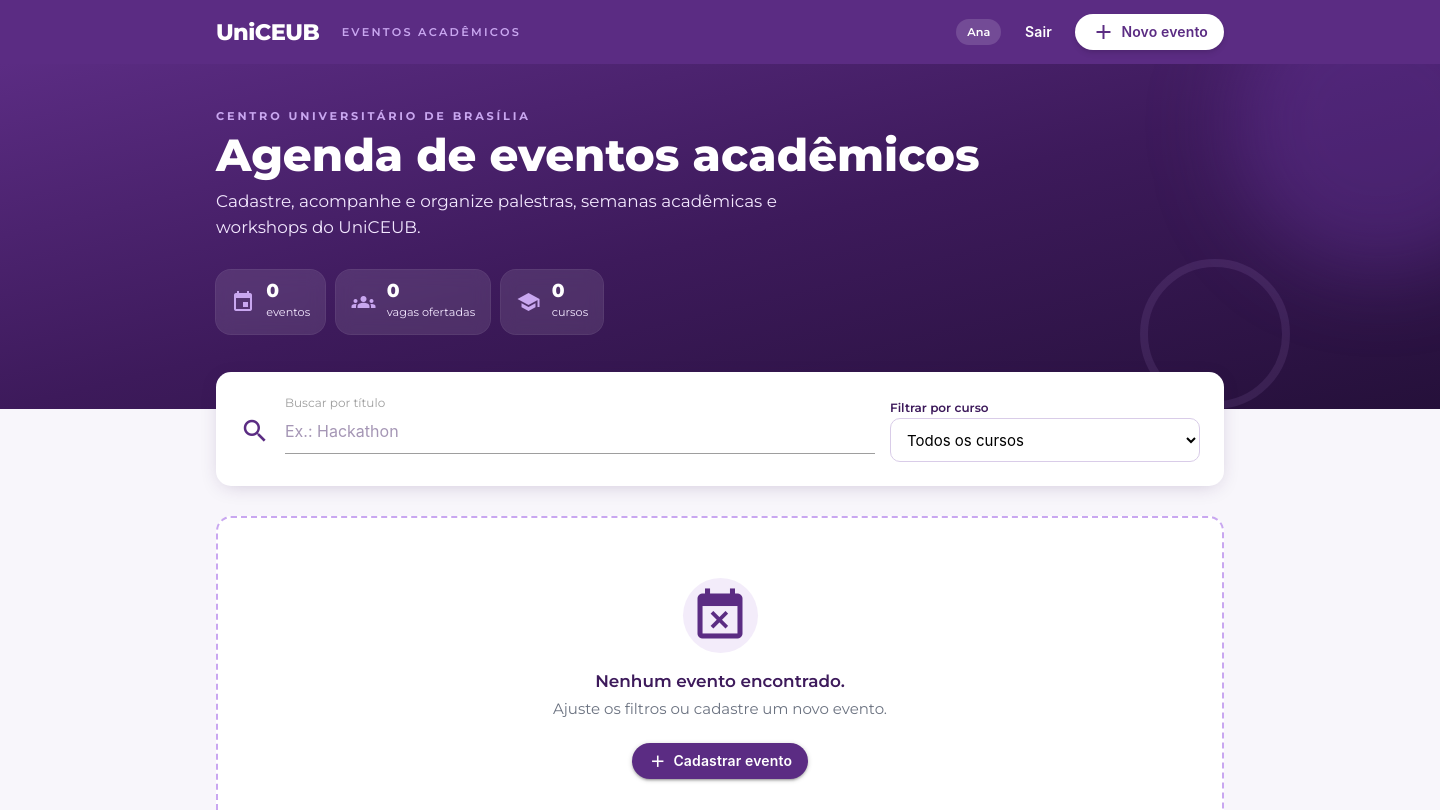
Test case: App › mostra estado vazio e permite cadastrar a partir dele
Expected: the text "Nenhum evento encontrado." is shown, [595,671,845,691]
Click the button "Cadastrar evento" at (720, 761), box [632,743,808,779]
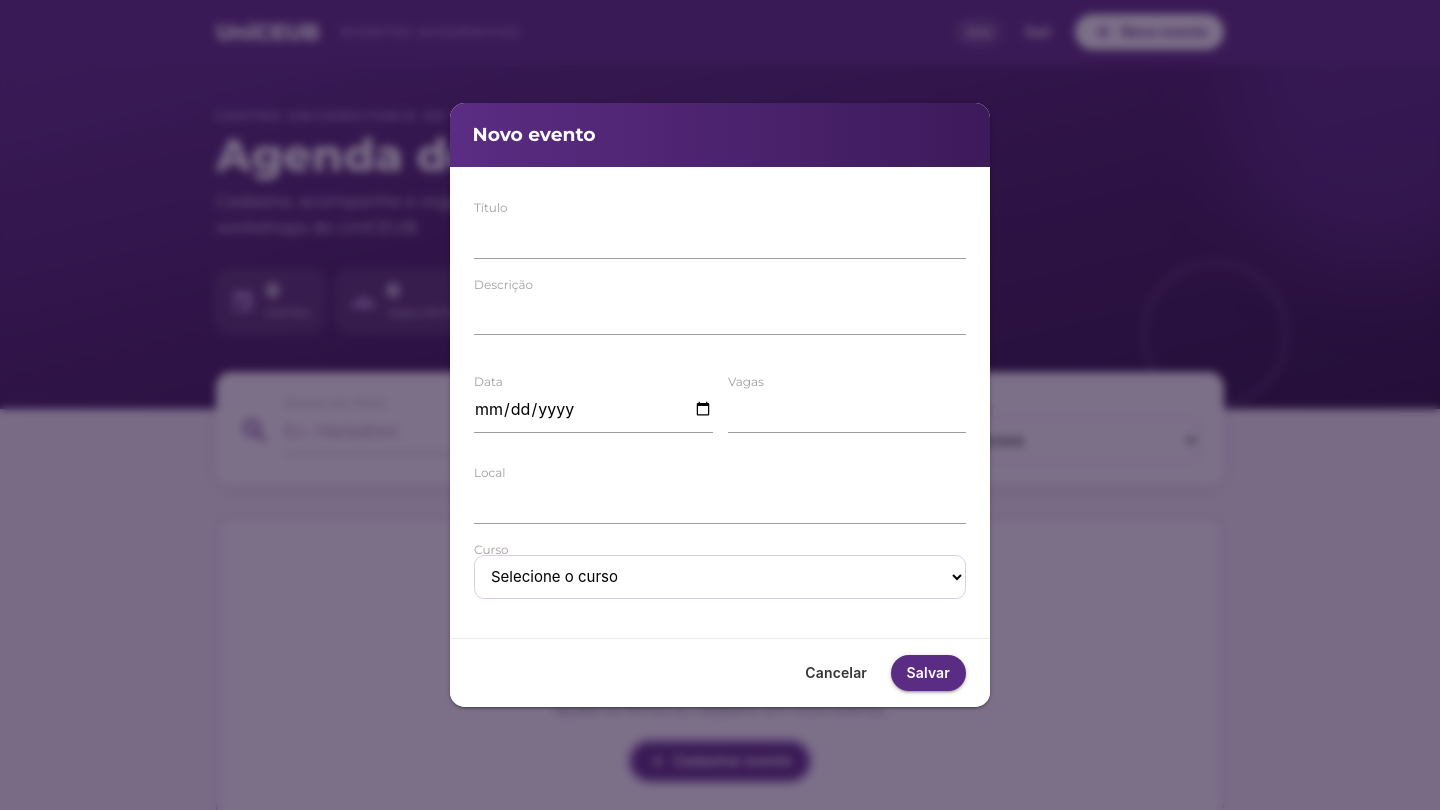
Now the heading "Novo evento" is shown, box [472,123,596,146]
